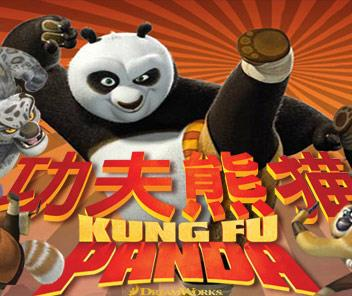Kung_Fu_Panda: (21, 10, 349, 248)
